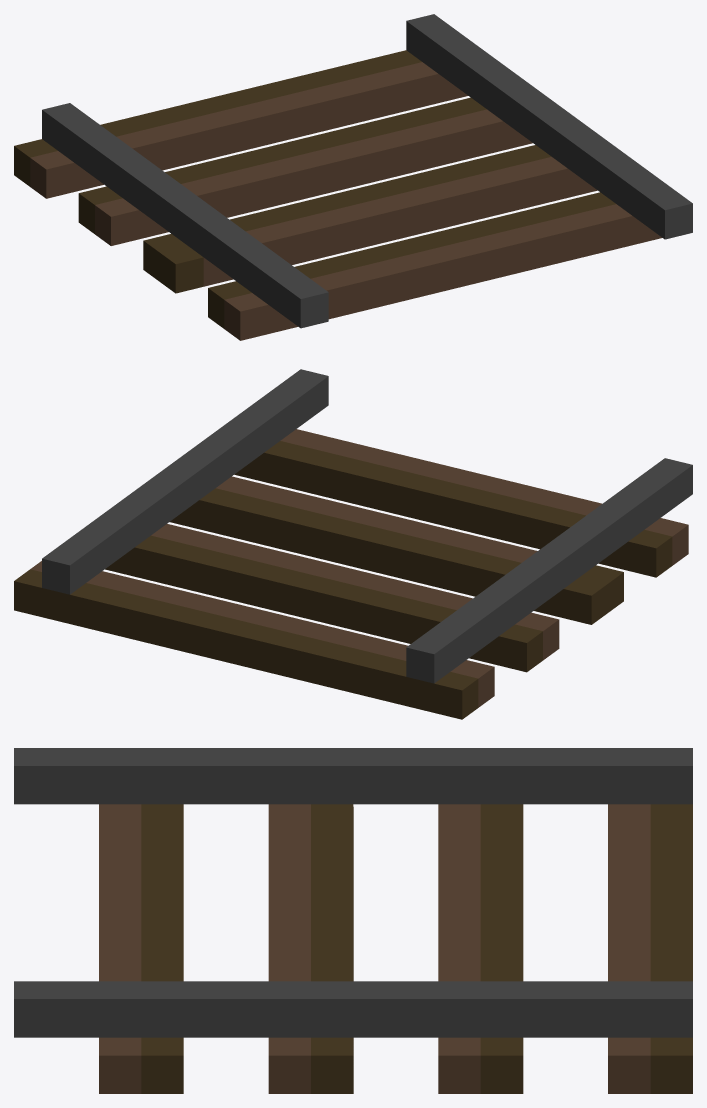
Rendered from voxel_rails.glb.
3 views of the same model, one above another, from view 1: azimuth 30°, elevation 25°; view 2: azimuth 150°, elevation 25°; view 3: azimuth 270°, elevation 25° (orthographic). The views are drawn at different scales.
Parts seen in each view (by area): view 1: ObjObject.008; view 2: ObjObject.008; view 3: ObjObject.008.
Boxes of the visible parts, x1,y1,x2,y2 form: ObjObject.008: (14,14,692,340); ObjObject.008: (14,369,692,719); ObjObject.008: (14,748,692,1093).
Size of the model in its own units: 160 by 20 by 160.
1 material, 1 textured.
